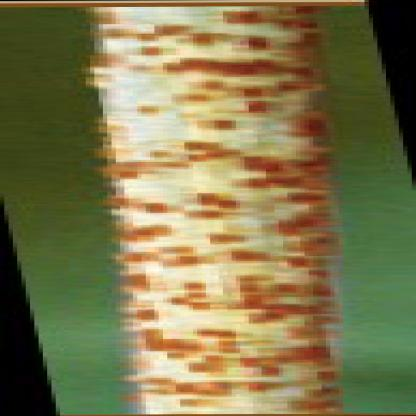wheat Stem Rust: (115, 11, 326, 414)
